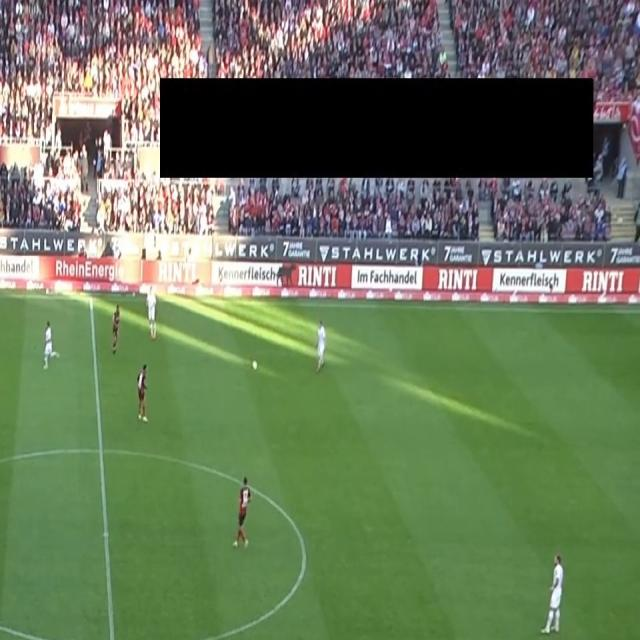ball: (252, 360, 258, 370)
